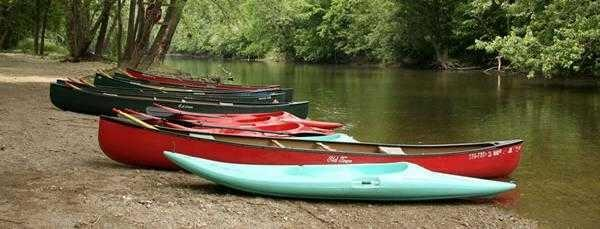kayak: (104, 117, 520, 189), (165, 153, 517, 202), (99, 114, 349, 168), (50, 76, 293, 114), (131, 107, 335, 141), (122, 67, 281, 92), (150, 100, 311, 123)
